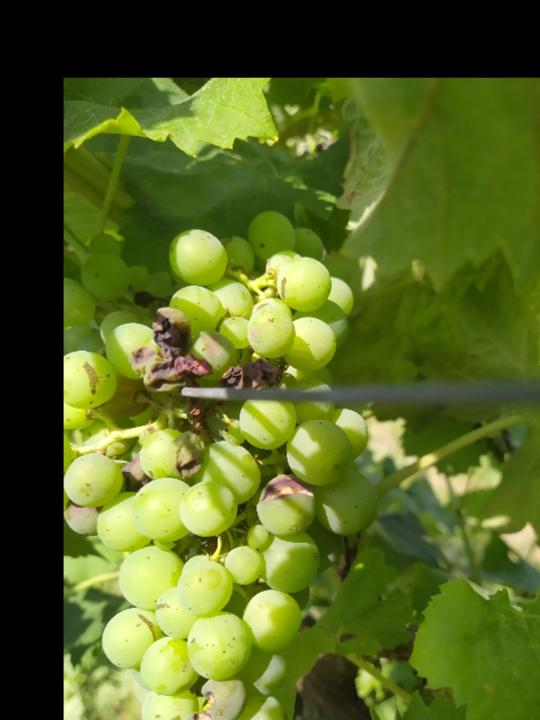grape: (67, 208, 383, 720)
